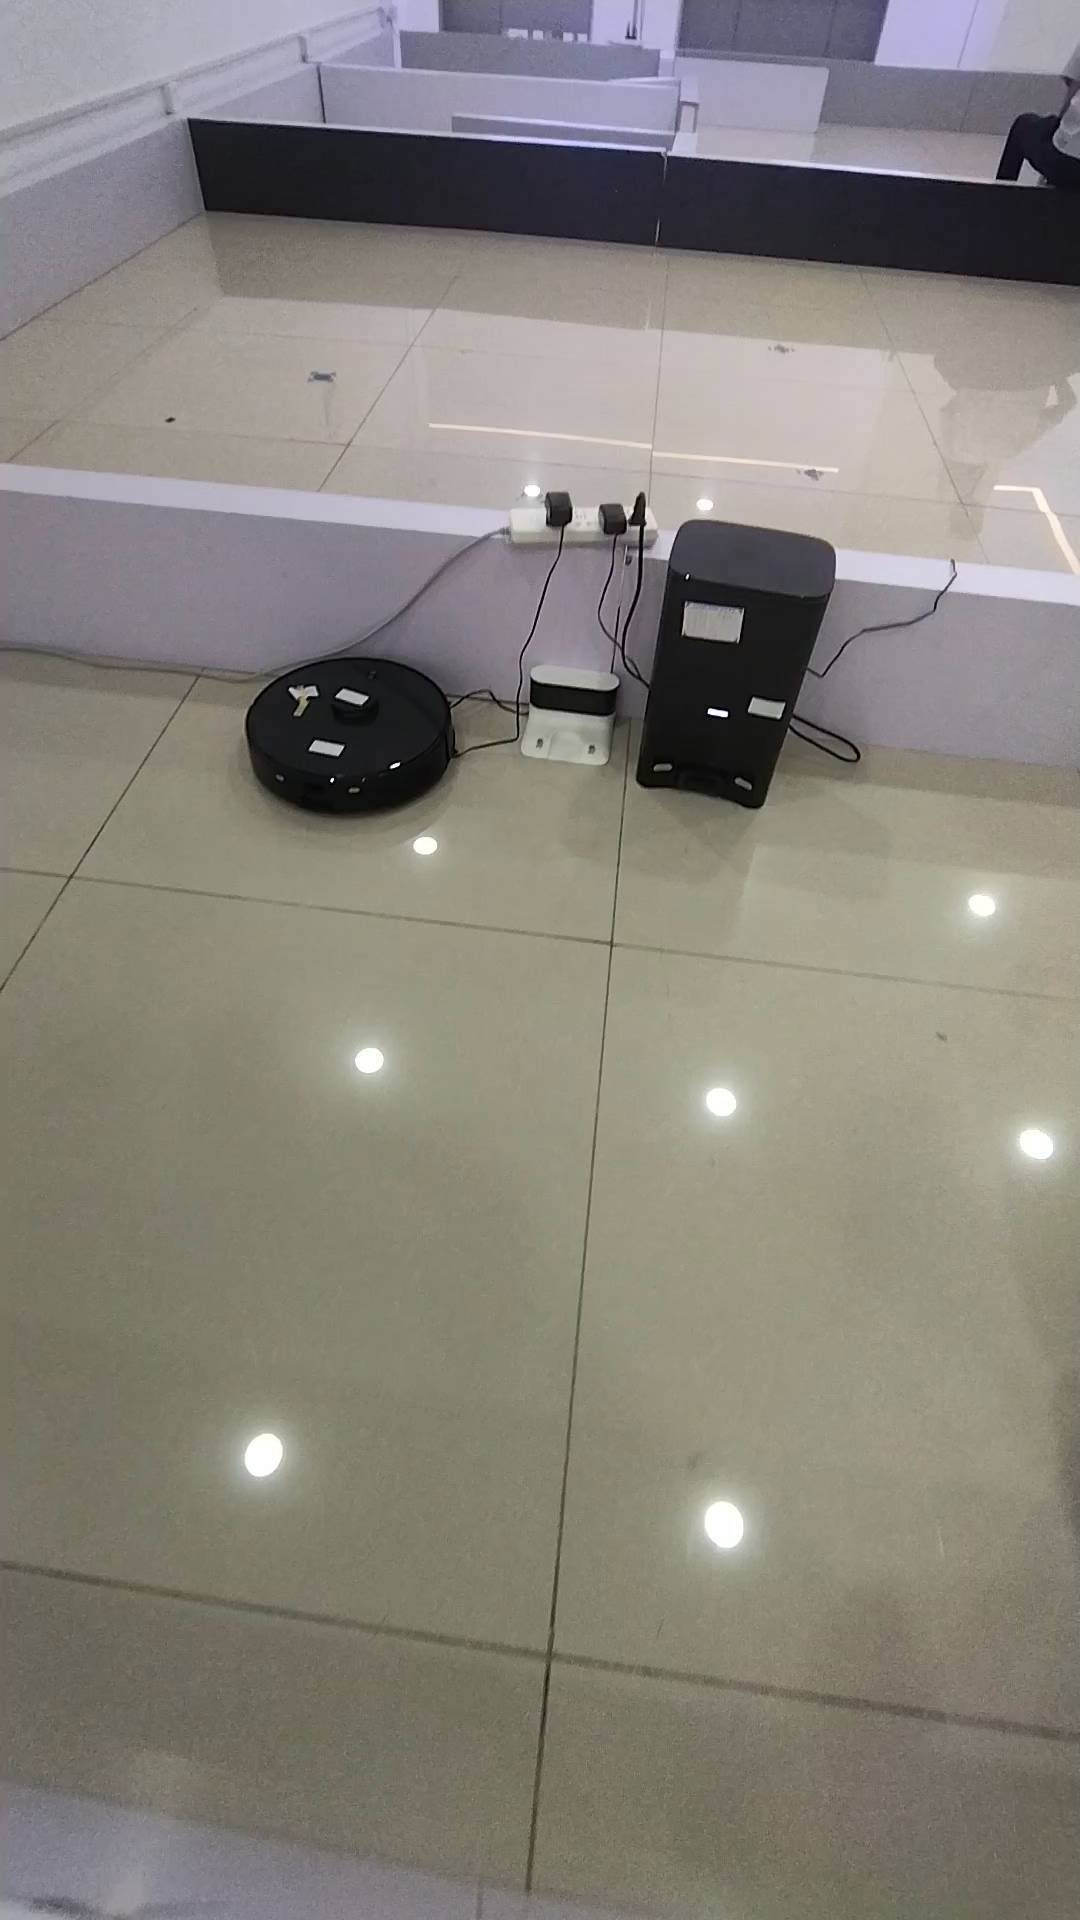dust collecting barrel: (637, 517, 837, 806)
recharge seat: (520, 661, 622, 767)
